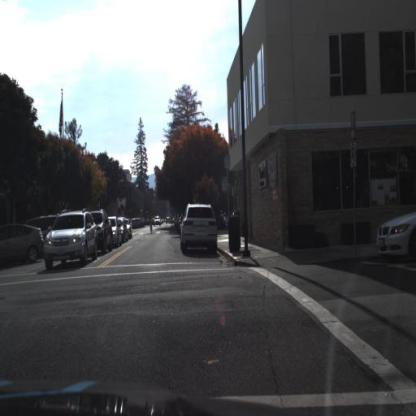car: (36, 207, 90, 268), (374, 204, 416, 270), (178, 201, 216, 256), (1, 218, 42, 264), (86, 209, 108, 250), (103, 211, 116, 244), (108, 210, 118, 250), (117, 212, 128, 245), (122, 214, 131, 232)
